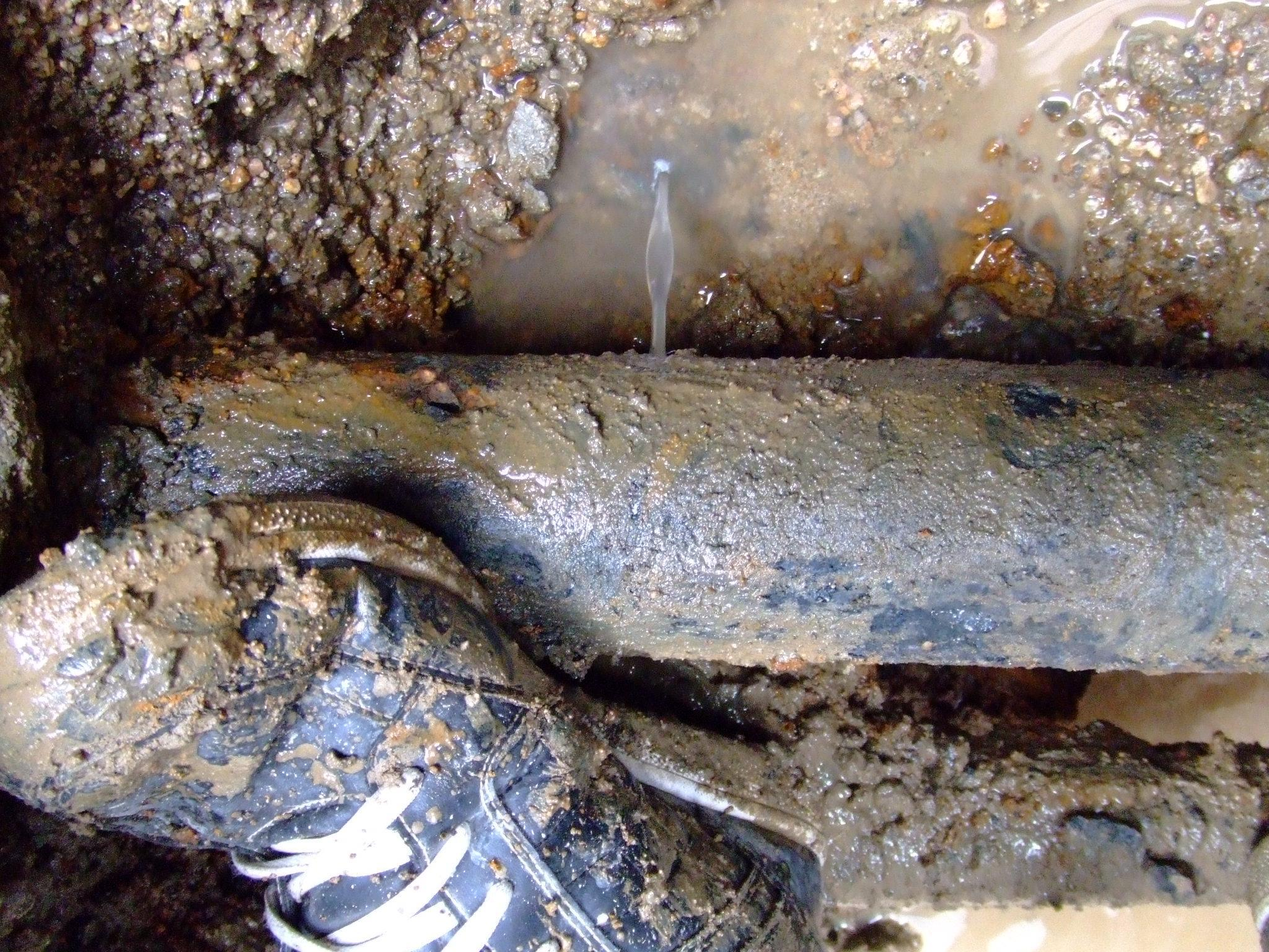pipe burst: (635, 155, 684, 387)
water accumulation: (418, 0, 1269, 355), (867, 900, 1269, 952)
